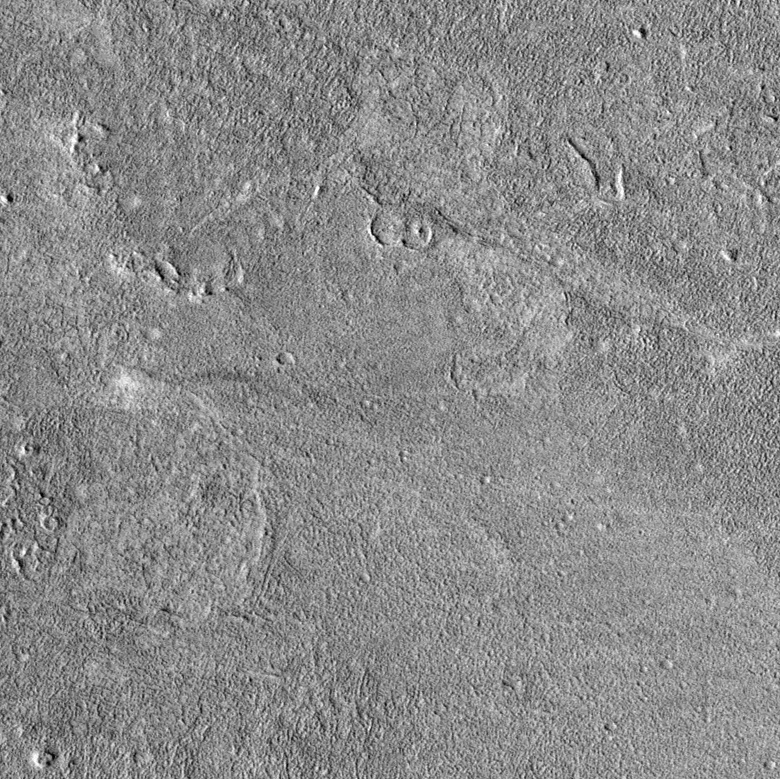dust_devil: (111, 361, 254, 400)
